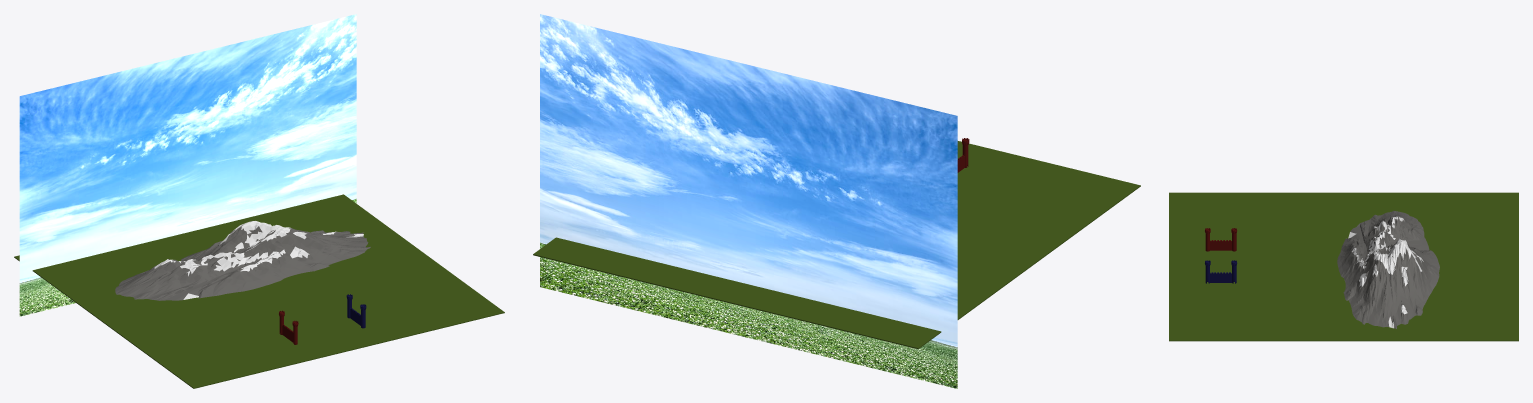
Rendered from level1.glb.
The picture shows the model from 3 angles, left to right: view 1: azimuth 30°, elevation 25°; view 2: azimuth 150°, elevation 25°; view 3: azimuth 270°, elevation 25°; orthographic projection. The views are drawn at different scales.
Parts seen in each view (by area): view 1: bg, Plane-ColVis, Mountain; view 2: bg, Plane-ColVis; view 3: Plane-ColVis, Mountain.
Boxes of the visible parts, x1=… form: bg: x1=19, y1=14, x2=356, y2=316; Plane-ColVis: x1=14, y1=194, x2=504, y2=388; Mountain: x1=115, y1=221, x2=370, y2=300; bg: x1=540, y1=14, x2=957, y2=388; Plane-ColVis: x1=533, y1=141, x2=1140, y2=349; Plane-ColVis: x1=1169, y1=192, x2=1518, y2=341; Mountain: x1=1337, y1=211, x2=1439, y2=328.
Size of what is drawn, in the model's own units: 433 by 271 by 400.
Materials: 6 (1 with a texture image).
